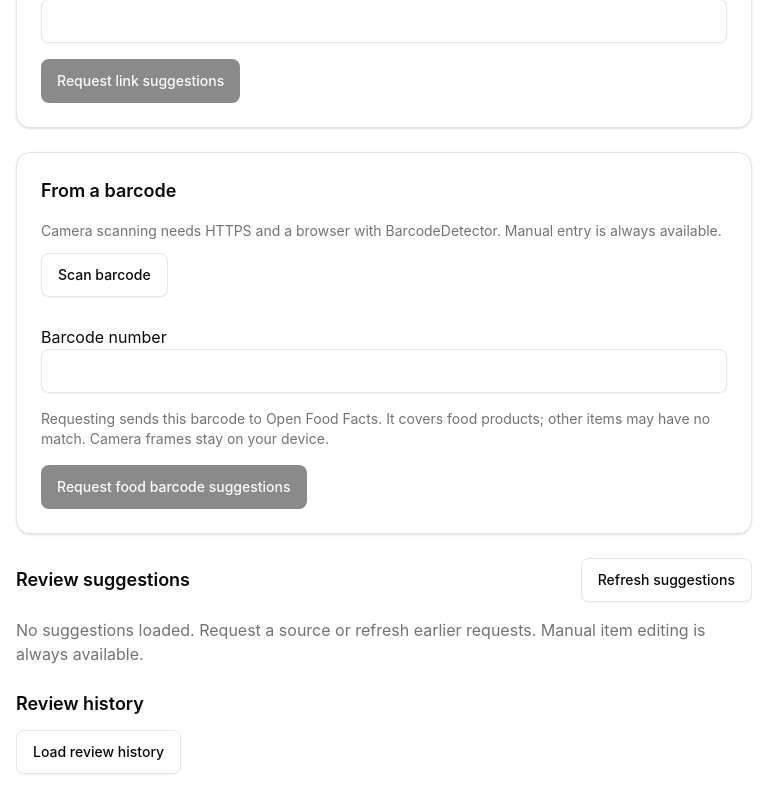
Test: PER-44 source-specific review › keeps merged receipt OCR work on its own review page
(page scrolled)
Click the button "Refresh suggestions" at point(666, 580), box [581,558,752,602]
(page scrolled)
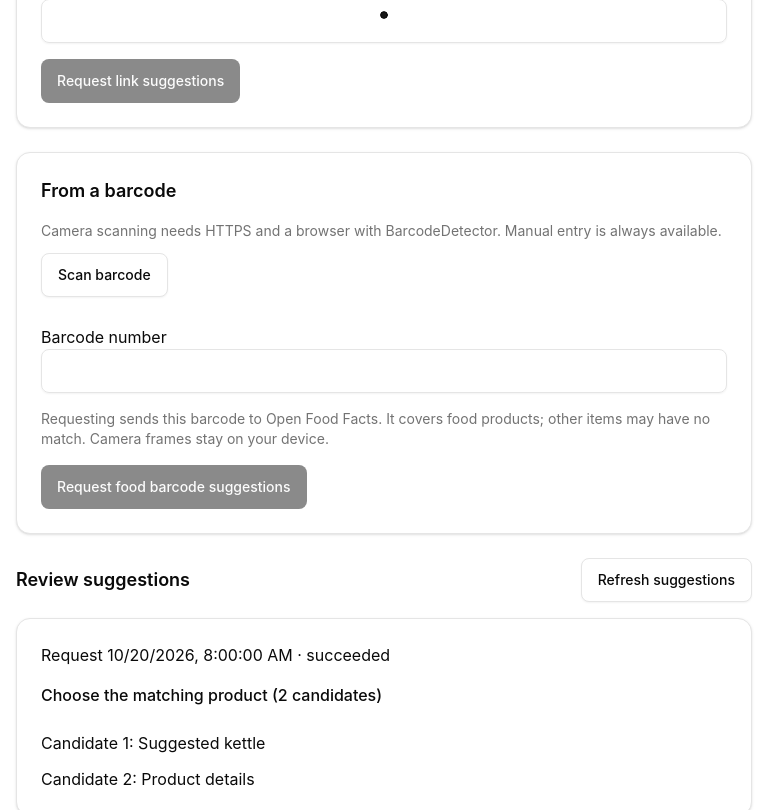
Now the text "Choose the matching product (2 candidates)" is shown once, box [41,683,382,707]
